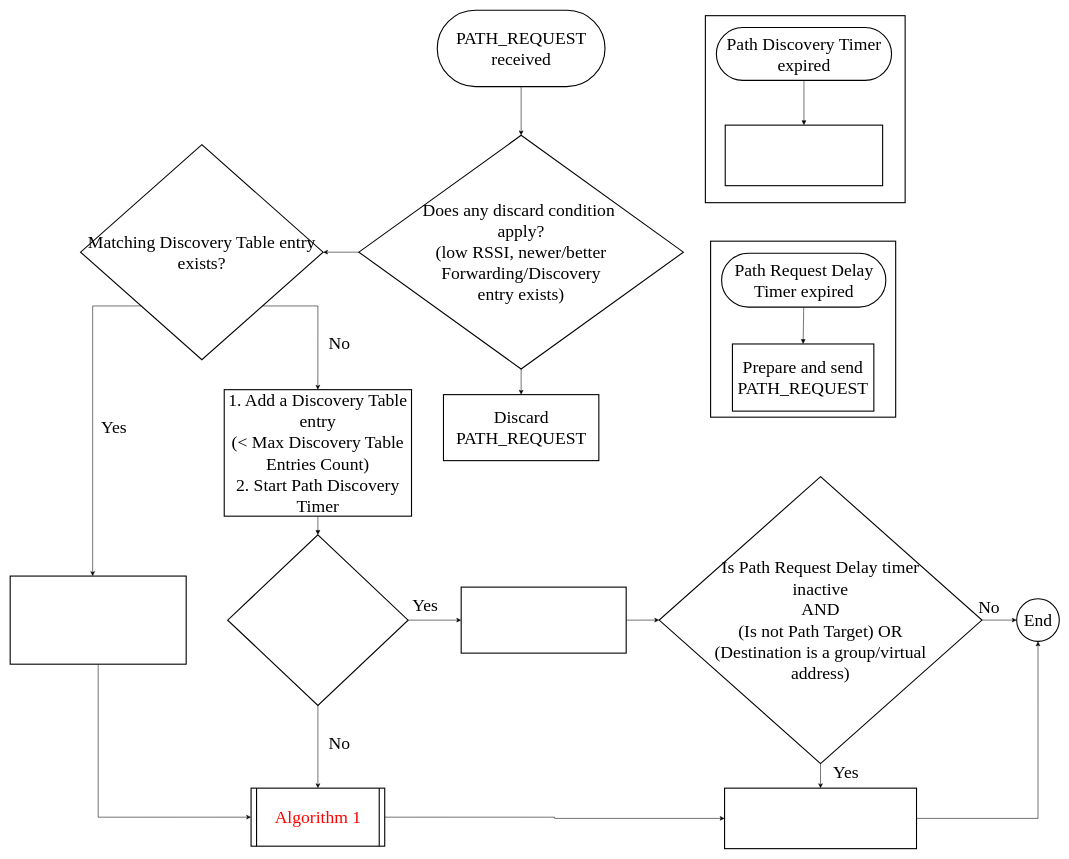
Image size: 1069x859. Some labels were removed from this diagram. Here are the shapes that lost their labels. From the top down, the centre of each, then its label:
At point (803, 155): "Remove entry from Discovery Table".
At point (97, 619): "Update Discovery Table entry depends on the Path Metric".
At point (317, 620): "Is this node the Path Target?".
At point (543, 619): "Start PATH_REPLY Delay Timer".
At point (820, 818): "Start Path Request Delay Timer".
